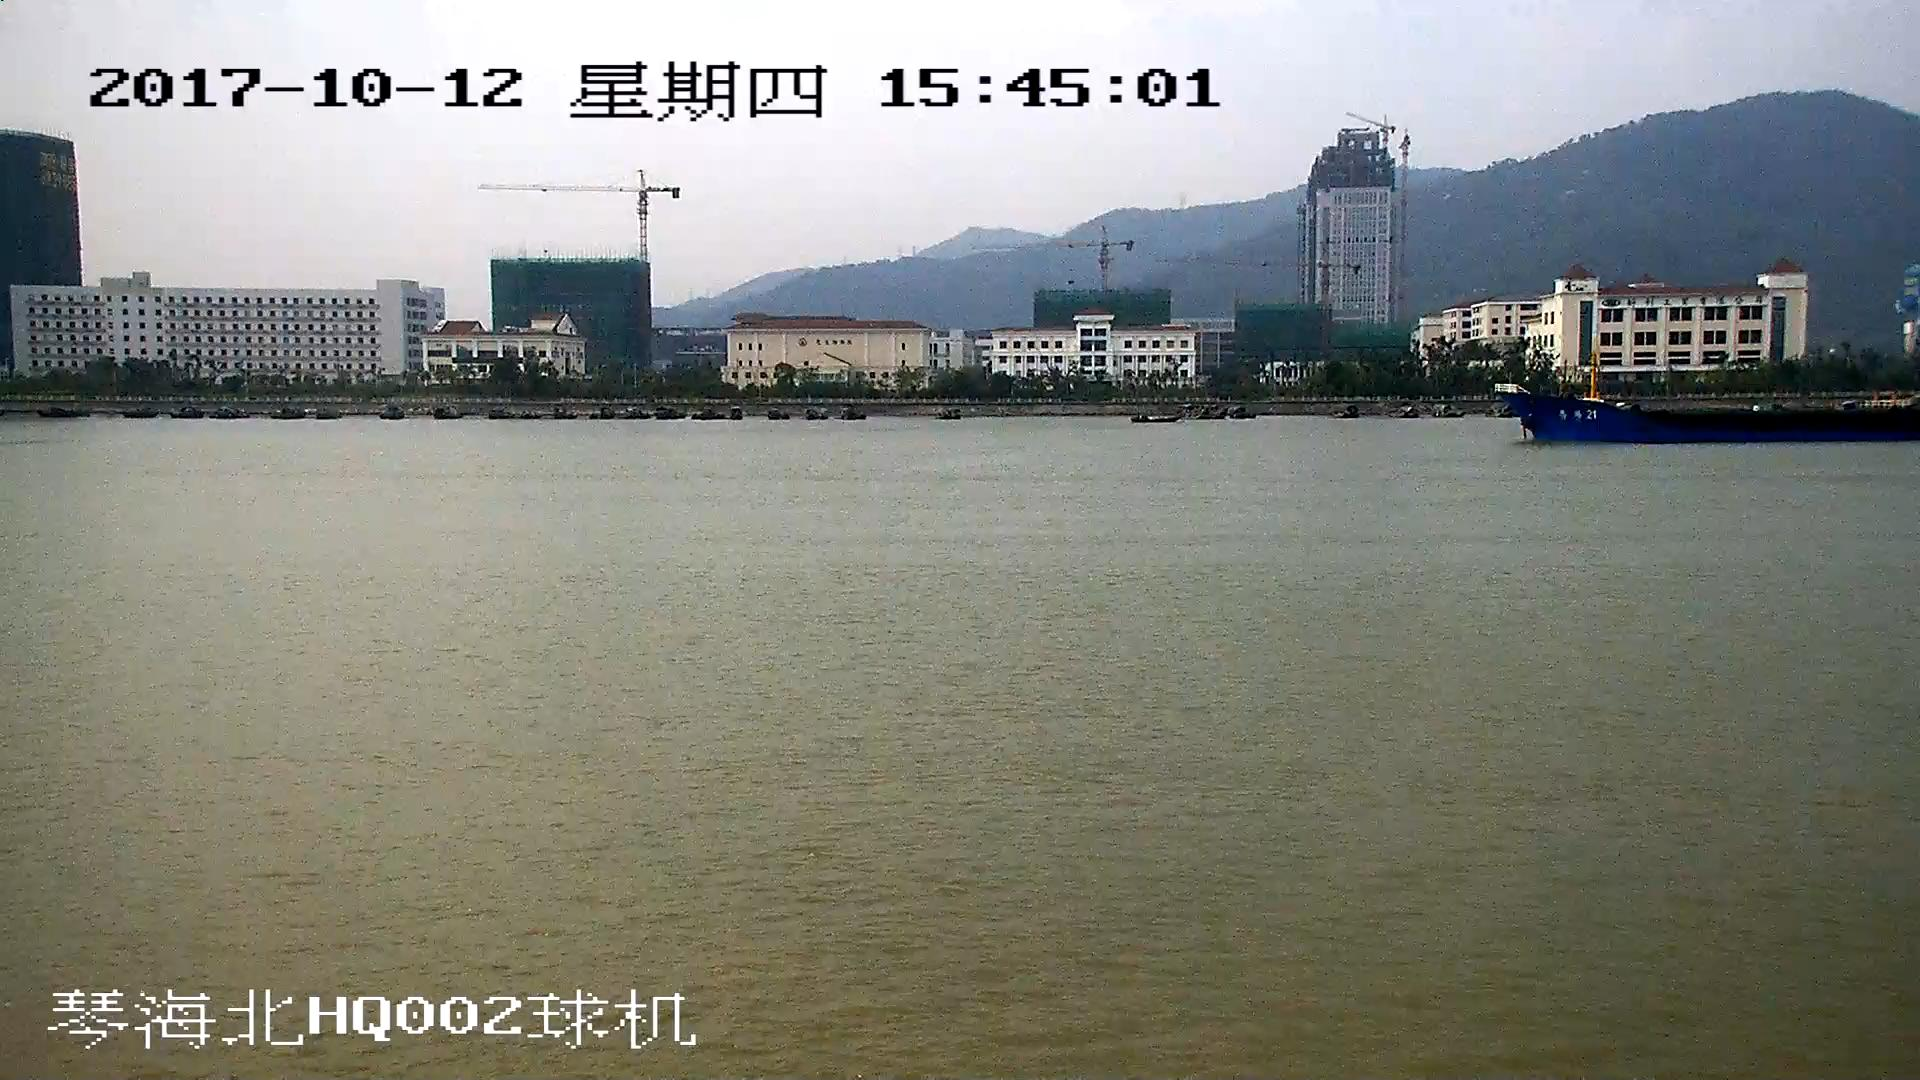general cargo ship: (1500, 379, 1920, 446)
